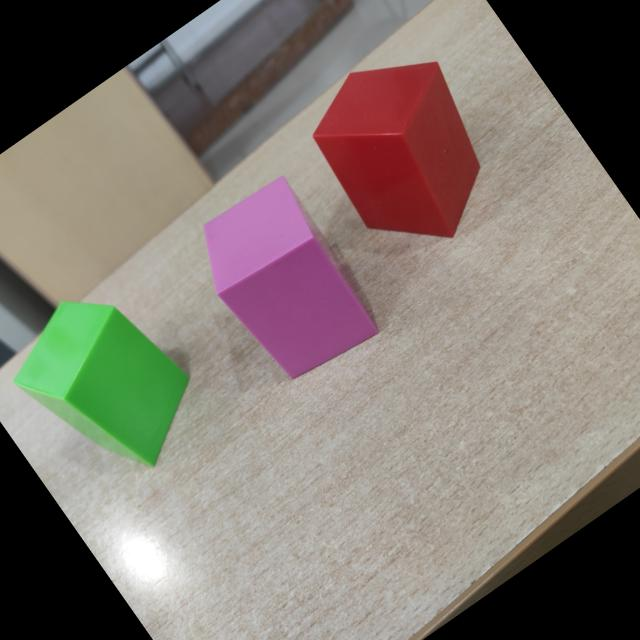green: (13, 301, 190, 468)
pink: (203, 174, 380, 380)
red: (313, 62, 482, 239)
